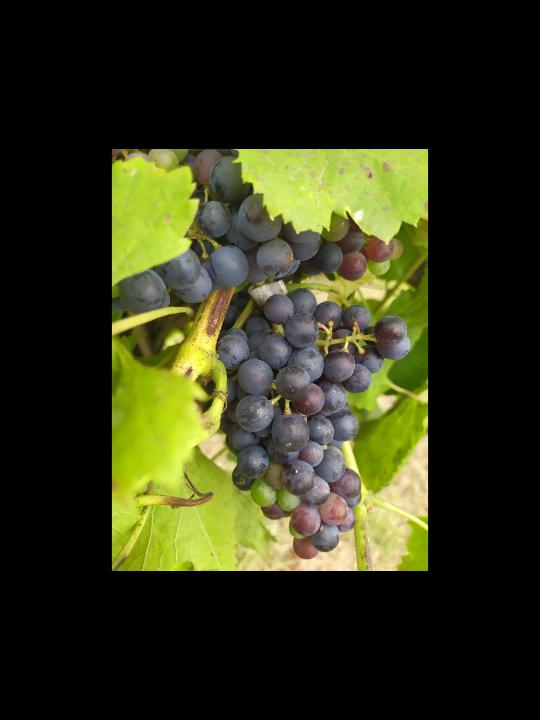grape: (206, 288, 412, 562)
